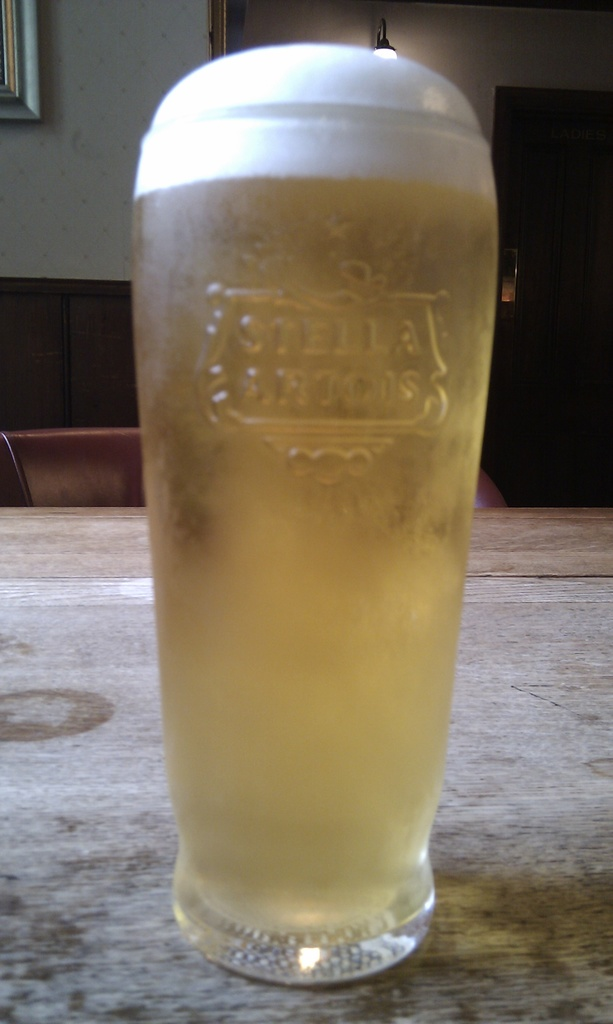Beer: (125, 35, 511, 987)
